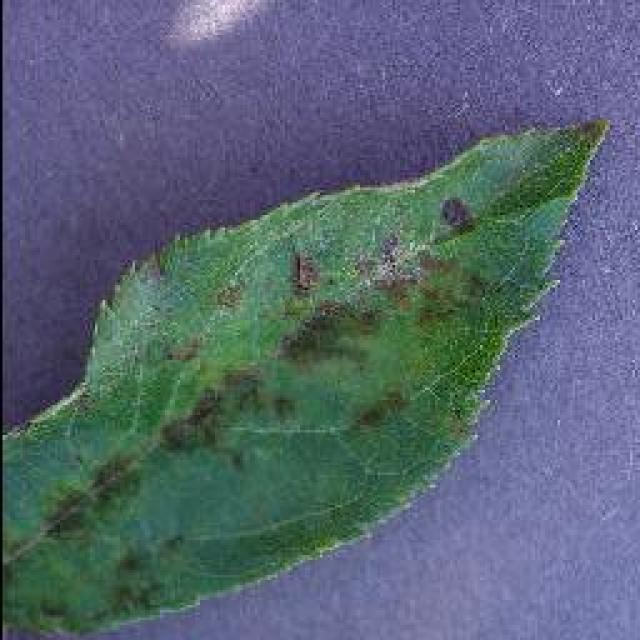apple scab disease: (0, 112, 612, 637)
